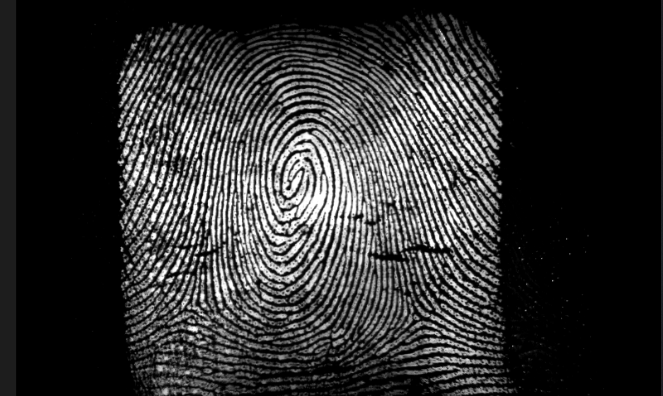nucelo: (277, 152, 309, 206)
verticilo: (398, 302, 438, 330), (174, 291, 210, 319)
